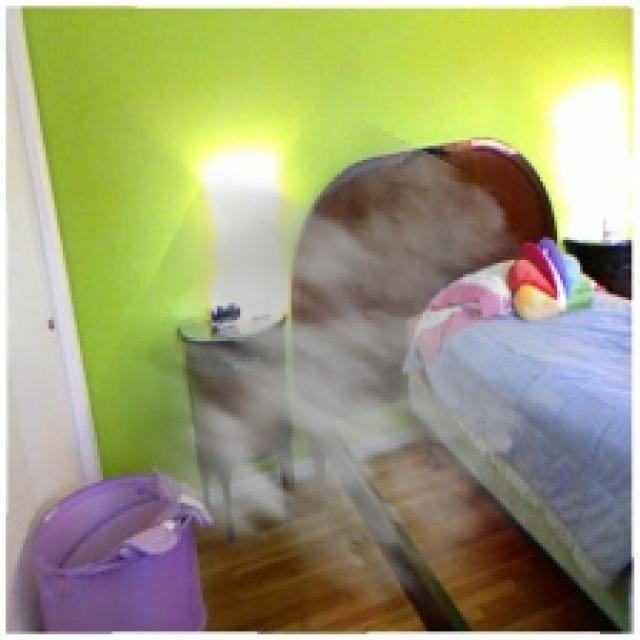Smoke: (60, 109, 606, 632)
